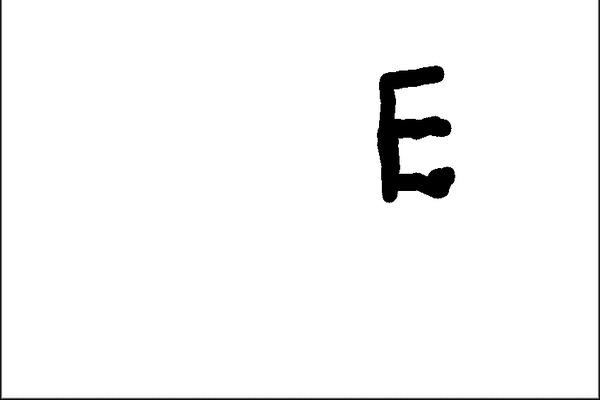E: (370, 61, 464, 204)
